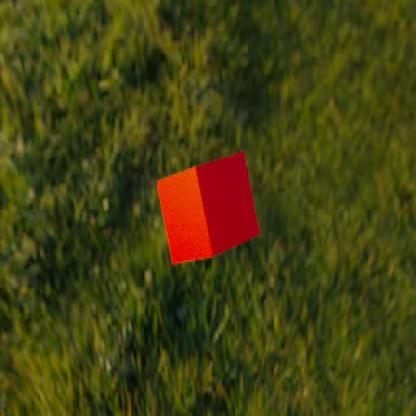red_cube: (156, 150, 260, 264)
